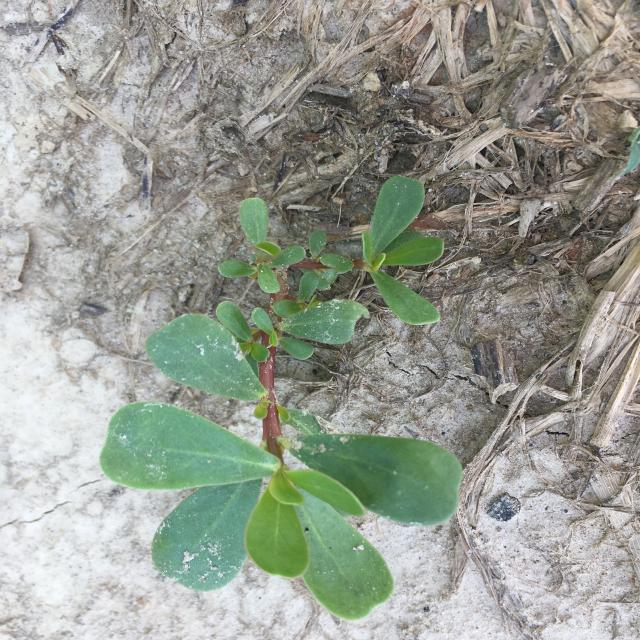Purslane: (99, 174, 464, 622)
